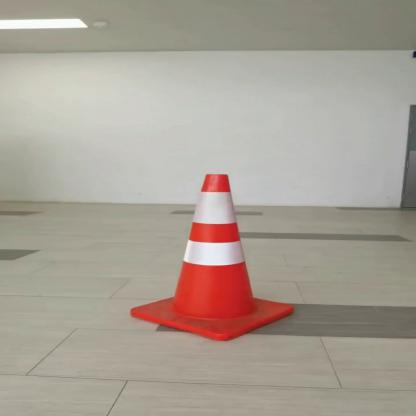cone: (124, 171, 306, 343)
